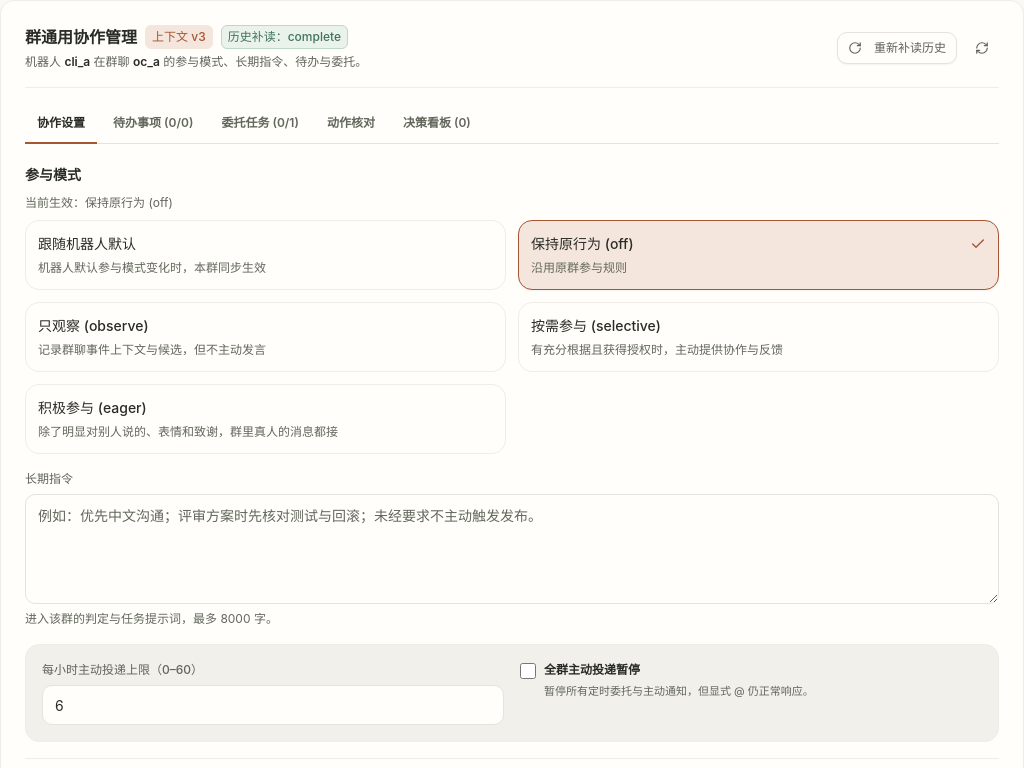
Scenario: 委托任务操作 payload、重试、调频改期与时间补秒 › 终态委托不再显示恢复执行或暂停投递按钮
Click the tab "委托任务 (0/1)" at (260, 124), box [209, 104, 311, 144]
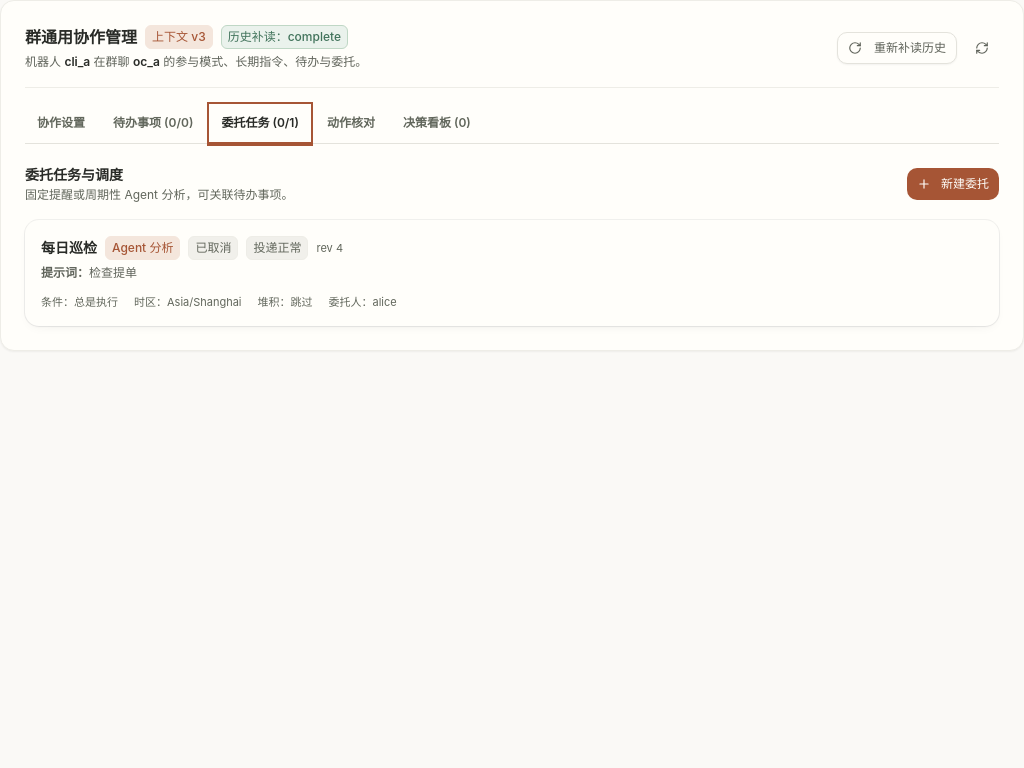
Now the text "每日巡检" is shown, box [41, 237, 97, 259]
